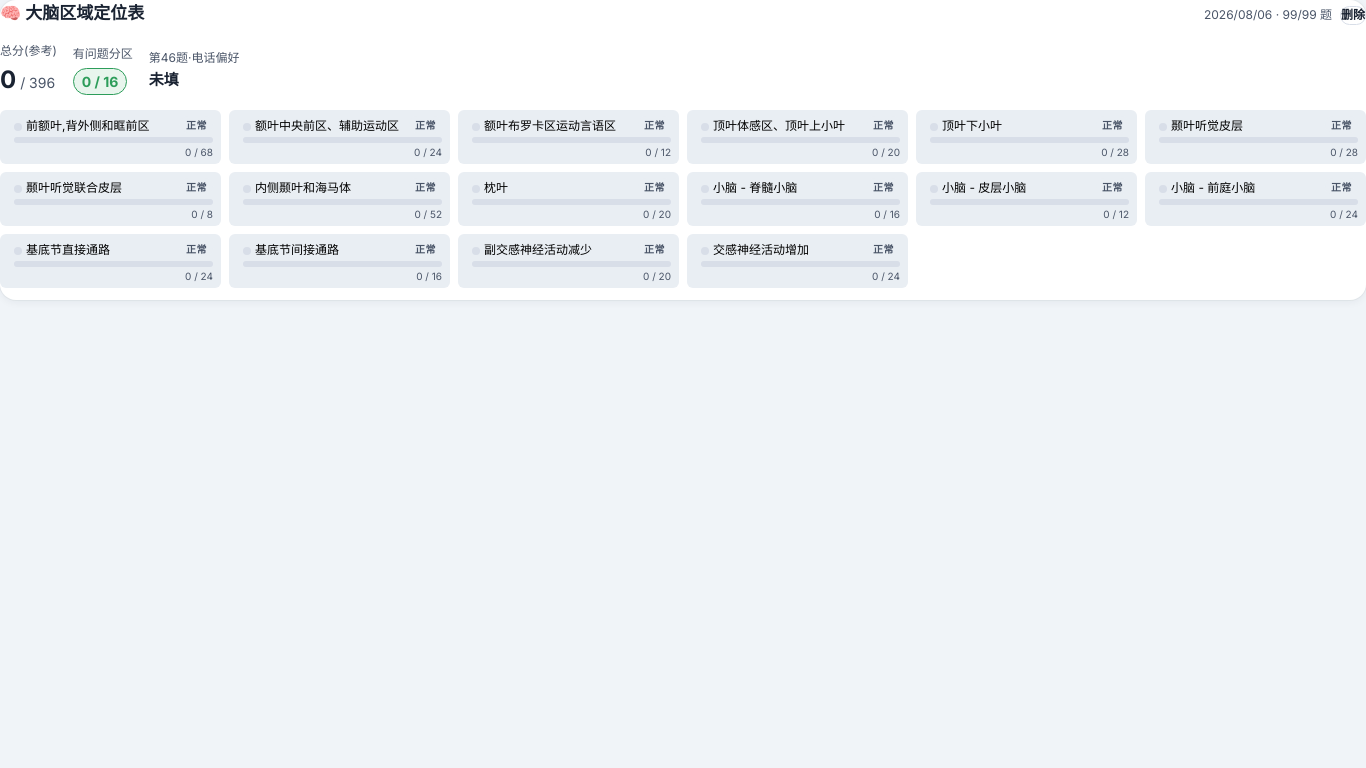
Scenario: BrainRegionResult — 分区条点击交互 › 关闭弹层后:弹层从 DOM 移除
Click the button with test id "brain-region-bar-prefrontal" at x=110, y=137, box left=0, top=110, right=221, bottom=164
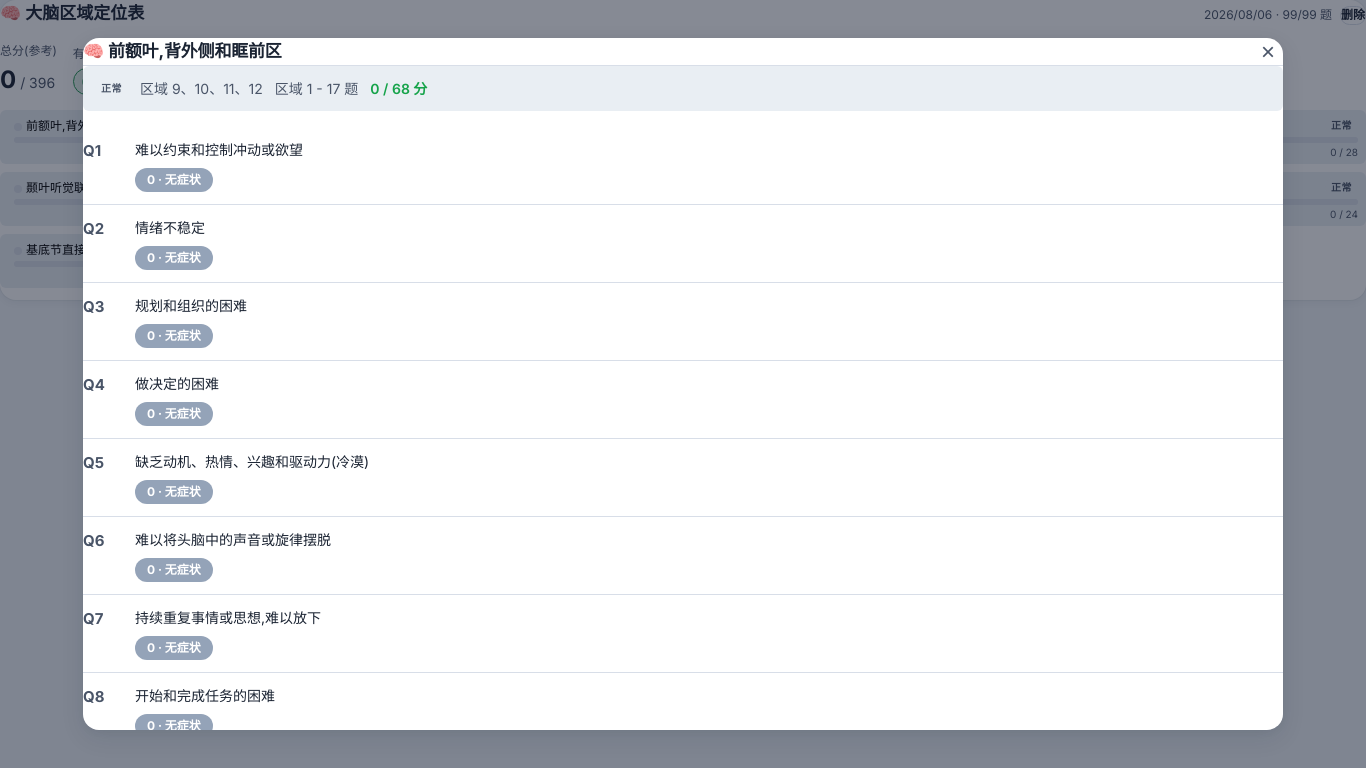
expect the dialog is shown: met
Click the button named "关闭" at x=1268, y=52, box left=1253, top=40, right=1283, bottom=64
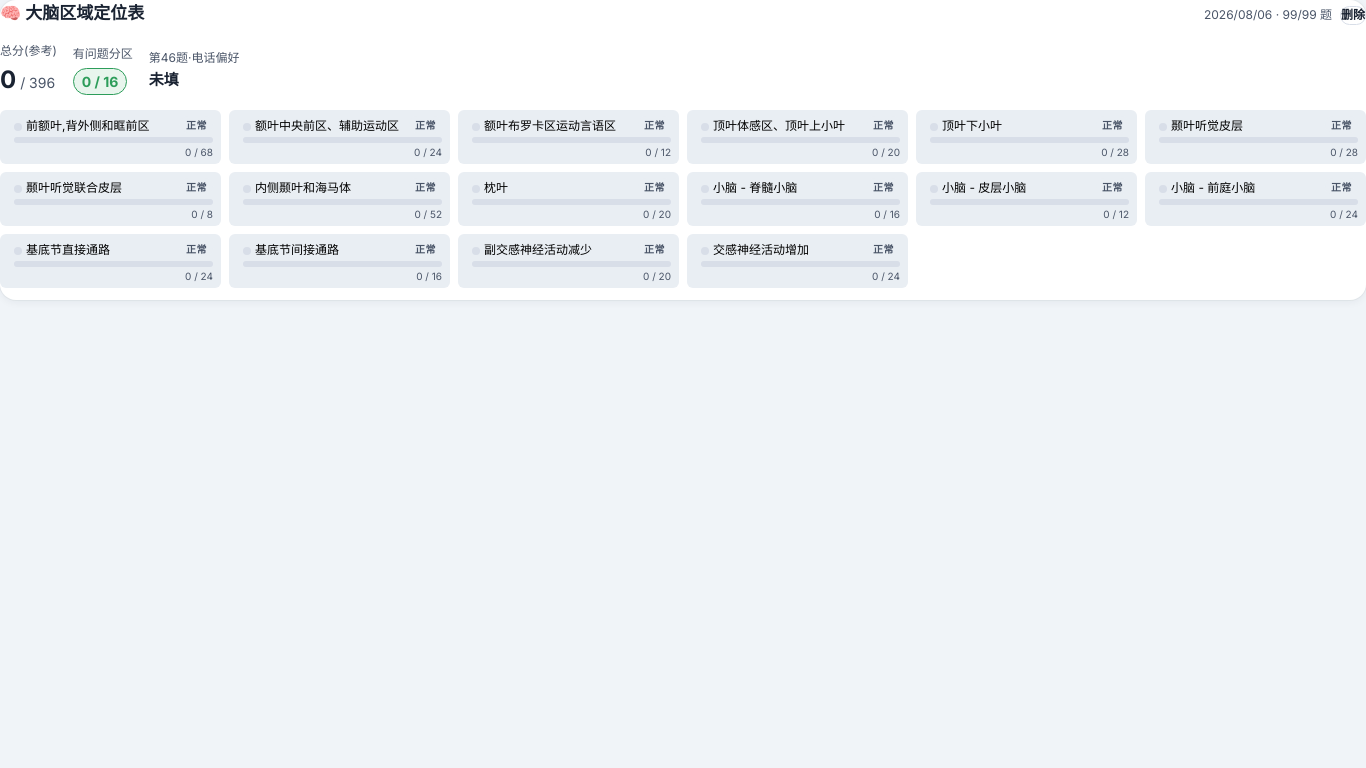
expect the dialog is gone: met
